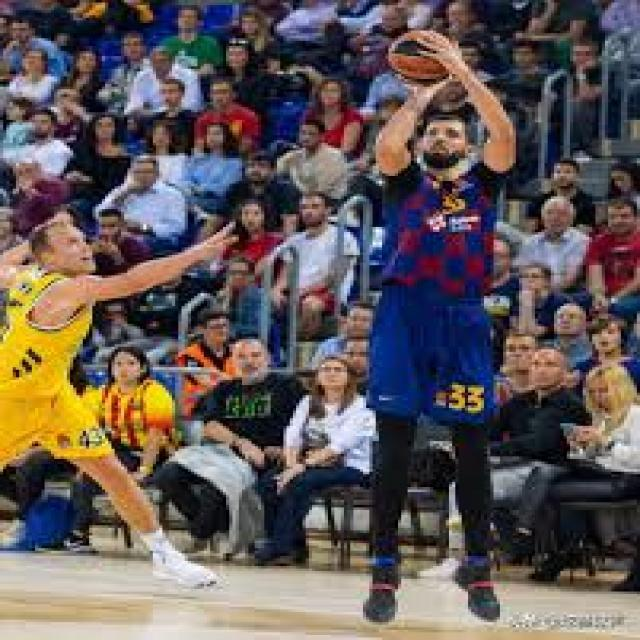rim: (392, 28, 452, 84)
